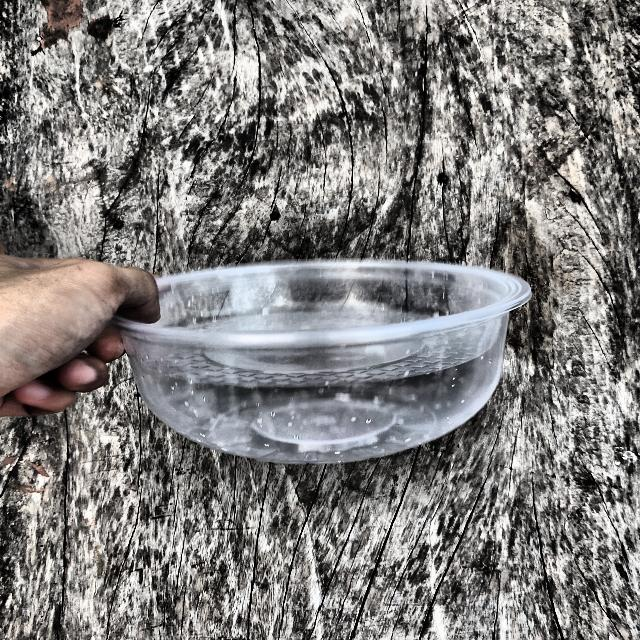plastic container: (86, 243, 528, 471)
